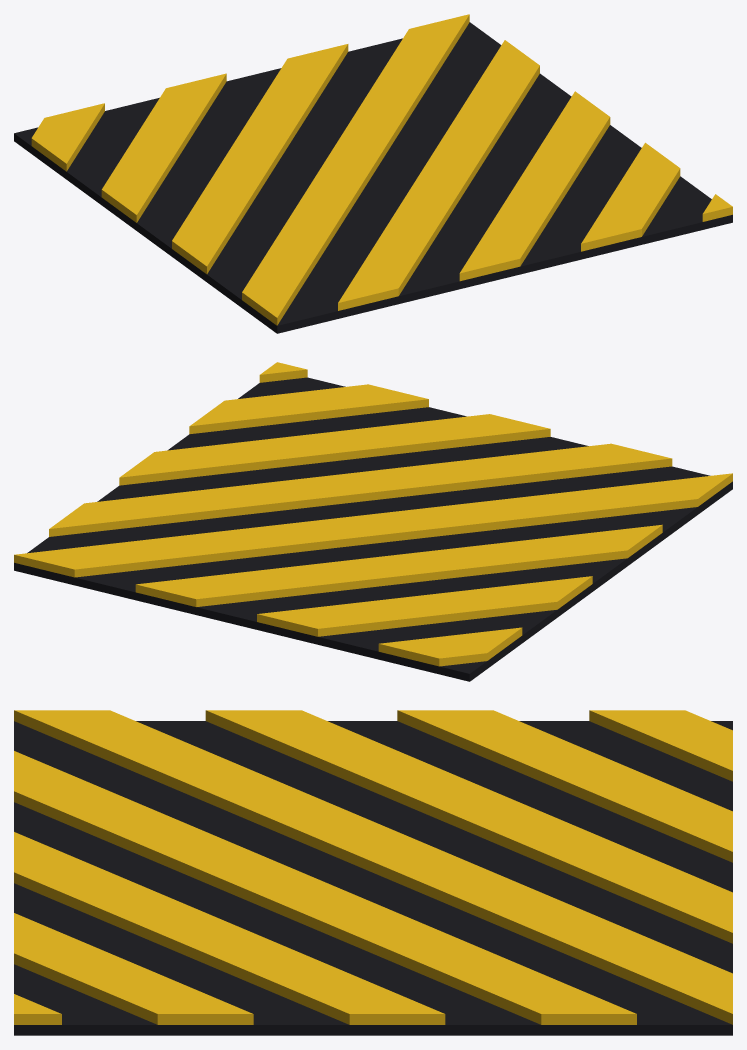
Rendered from env_r9_hazard_plate.glb.
3 renders of one model, top to bottom at view 1: azimuth 30°, elevation 25°; view 2: azimuth 150°, elevation 25°; view 3: azimuth 270°, elevation 25°, orthographic. The views are drawn at different scales.
Visible parts, largest first — view 1: env_r9_hazard_plate; view 2: env_r9_hazard_plate; view 3: env_r9_hazard_plate.
Boxes of the visible parts, box(x1,y1,x2,y2) form: env_r9_hazard_plate: box(14, 14, 732, 333); env_r9_hazard_plate: box(14, 362, 732, 681); env_r9_hazard_plate: box(14, 710, 732, 1035).
Size of the model in its own units: 3 by 0.1 by 3.
Materials: 1 (1 with a texture image).
